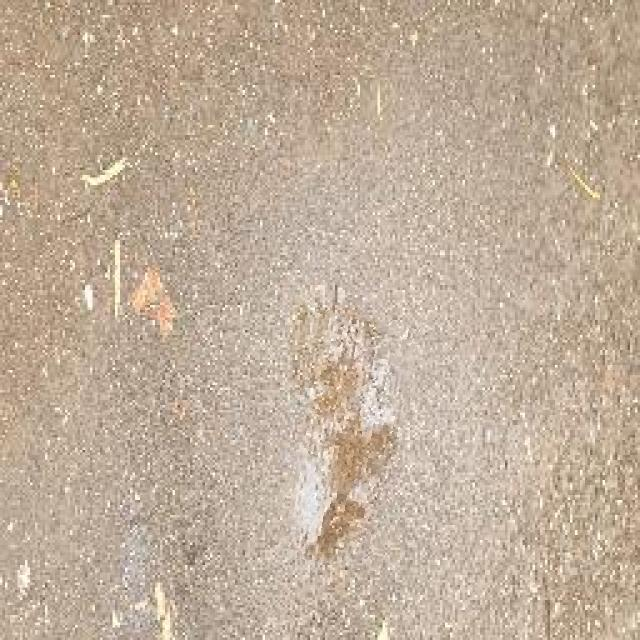puddle: (287, 313, 411, 570)
